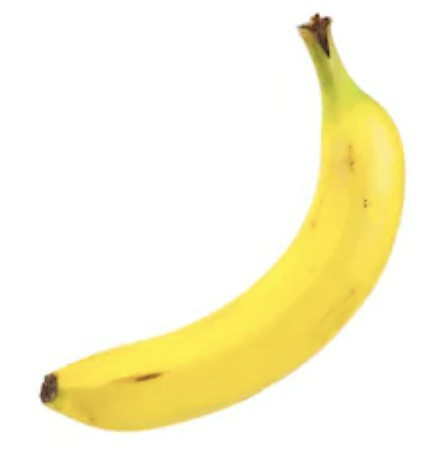fresh_banana: (45, 22, 404, 429)
